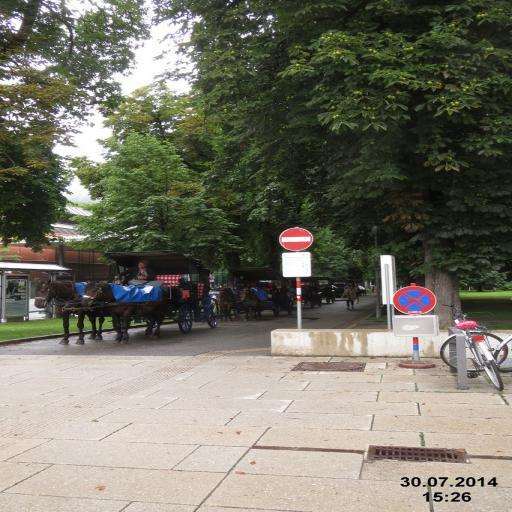horse: (78, 280, 170, 344), (34, 282, 108, 346), (234, 284, 271, 320), (215, 286, 236, 320)
